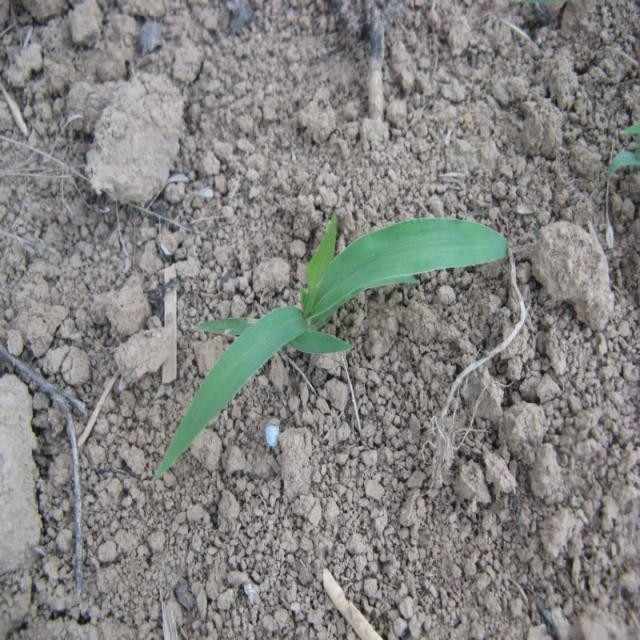bg: (153, 208, 509, 488)
